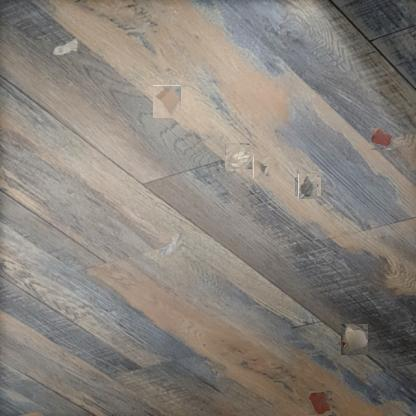dirty: (153, 85, 181, 118), (340, 323, 368, 355), (225, 144, 251, 170), (160, 232, 184, 258), (297, 175, 319, 198), (53, 38, 80, 56), (253, 156, 270, 178)
liquid: (310, 391, 334, 415), (370, 127, 392, 149)
